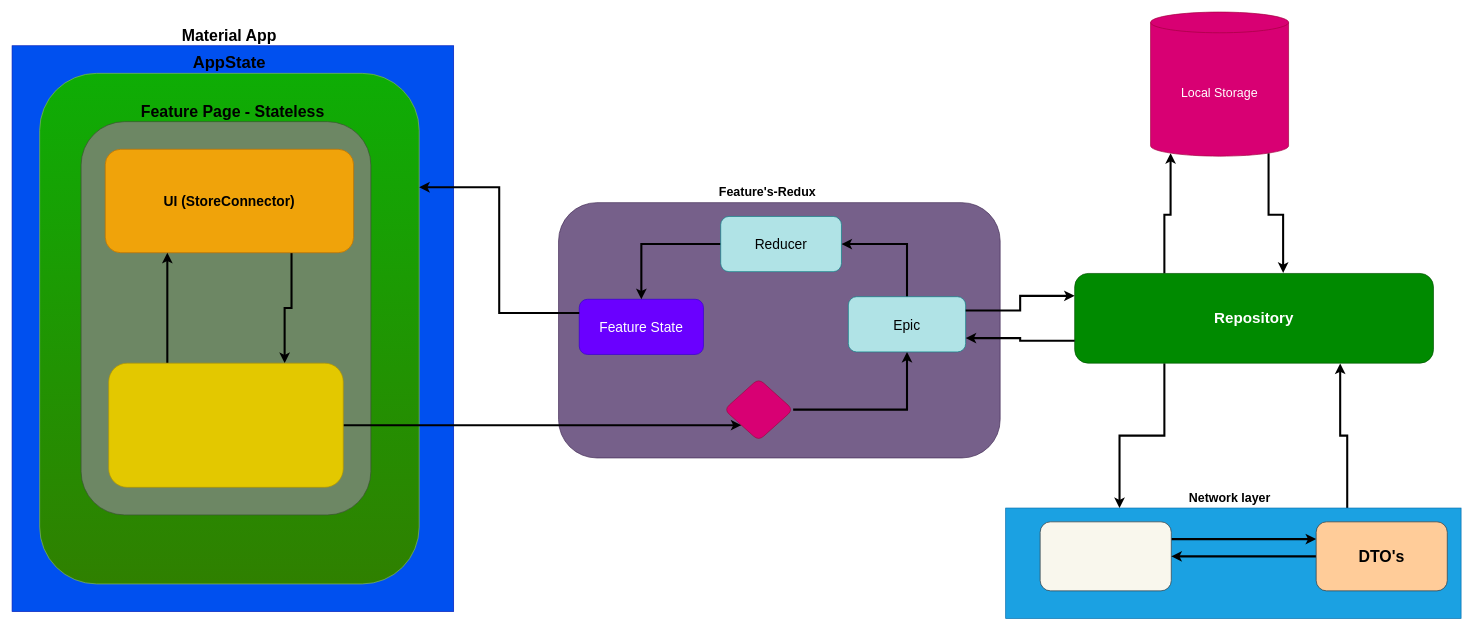
The diagram is 1473 pixels wide and 631 high, and some of its shapes have lost their labels. Here are the shapes that lost their labels. From the top down, the centre of each, then its label:
[225,424]: ViewModel (Action handler)
[758,409]: Actions
[1105,556]: API implementation
